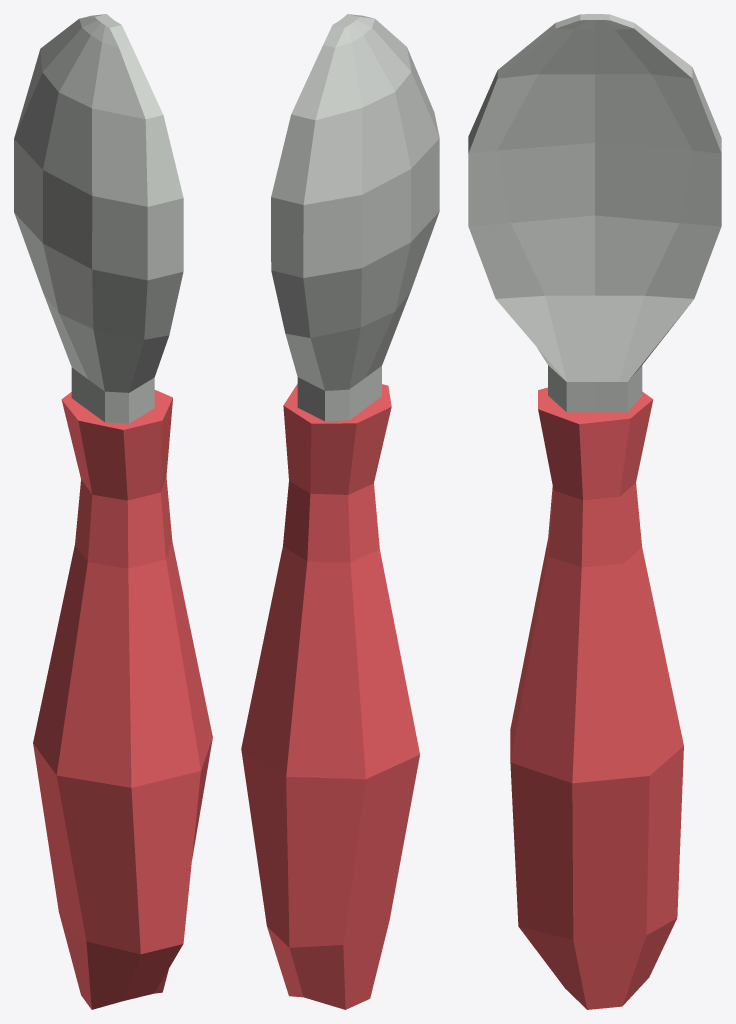
File: spoon.fbx
3 renders of one model, left to right at view 1: azimuth 30°, elevation 25°; view 2: azimuth 150°, elevation 25°; view 3: azimuth 270°, elevation 25°, orthographic.
Parts seen in each view (by area): view 1: spoon; view 2: spoon; view 3: spoon.
Boxes of the visible parts, bbox=[...] form: spoon: bbox=[14, 14, 212, 1009]; spoon: bbox=[241, 14, 439, 1009]; spoon: bbox=[468, 14, 721, 1009].
Bounding box in the file's own units: 144 × 850 × 202.
